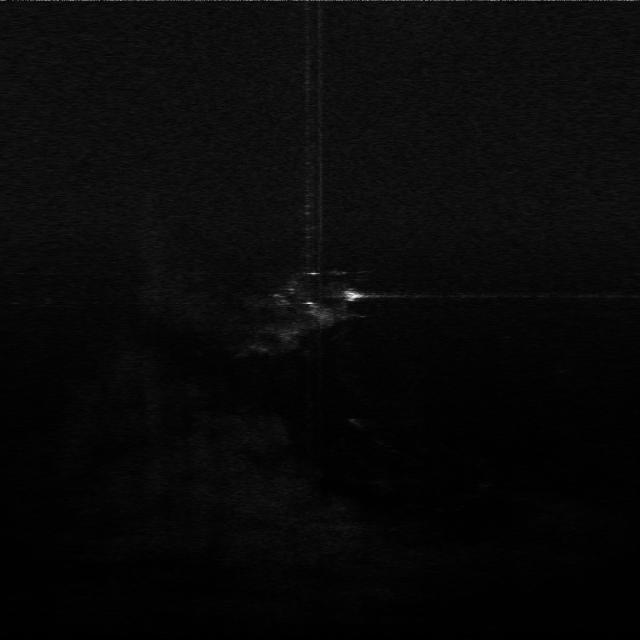rov: (340, 287, 366, 304)
